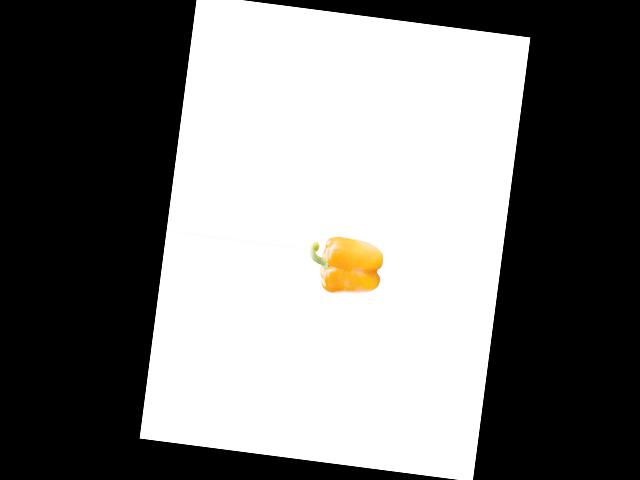bell_pepper: (304, 226, 386, 304)
